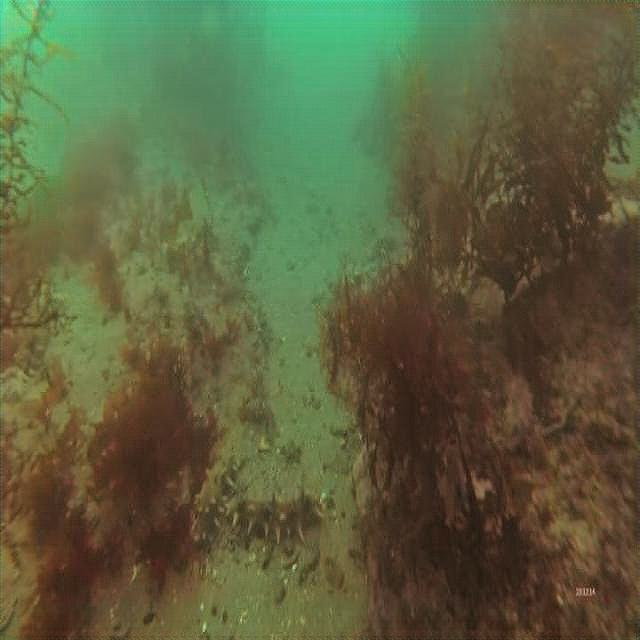holothurian: (227, 482, 331, 553), (190, 455, 228, 550)
